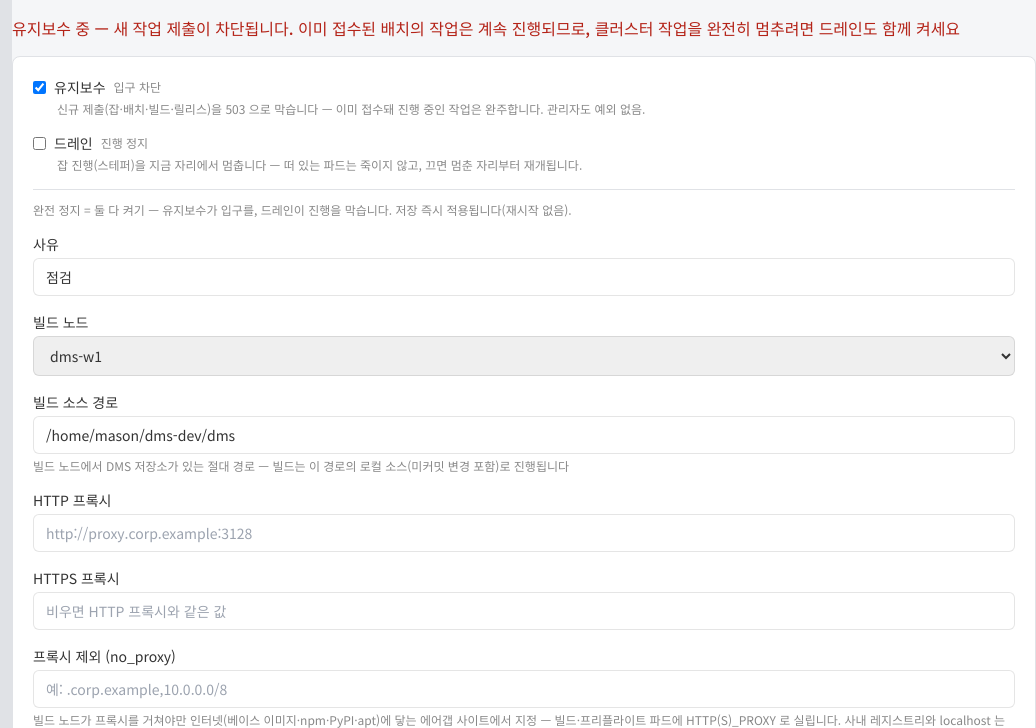
프록시 주소가 거절되면(invalid_proxy_url) 한국어 사유를 보여준다
Expected: the checkbox labelled "유지보수" is shown, left=33, top=80, right=46, bottom=94
Type "user:pw@proxy" into the field labelled "HTTPS 프록시" at x=524, y=611, box left=33, top=592, right=1015, bottom=630
(page scrolled)
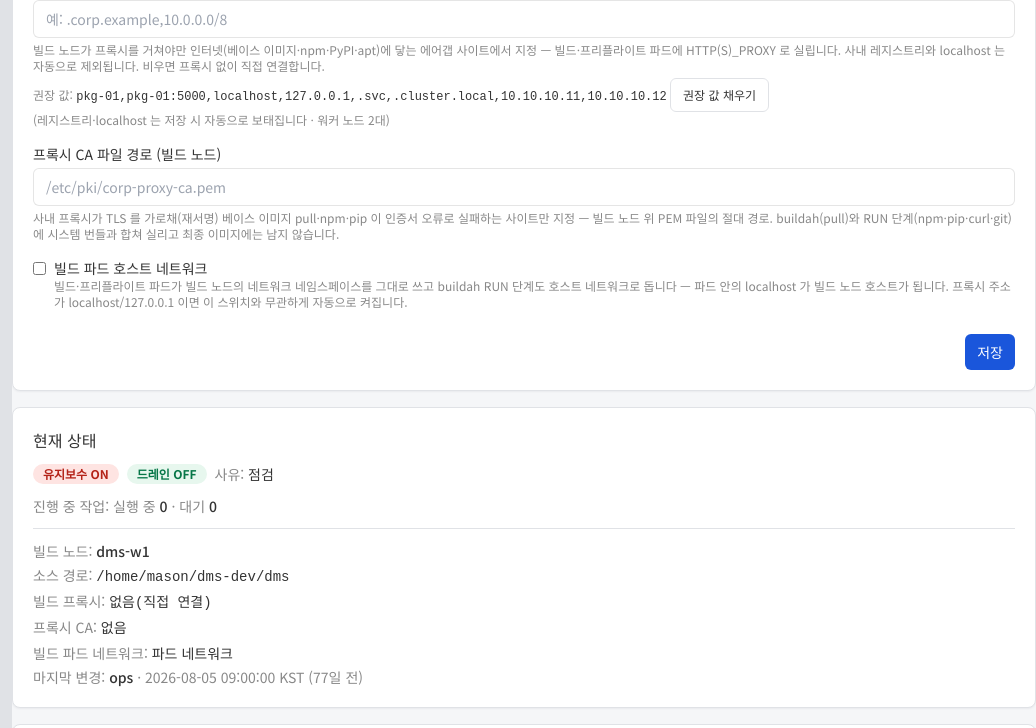
Click the button "저장" at x=990, y=352, box left=965, top=334, right=1015, bottom=370
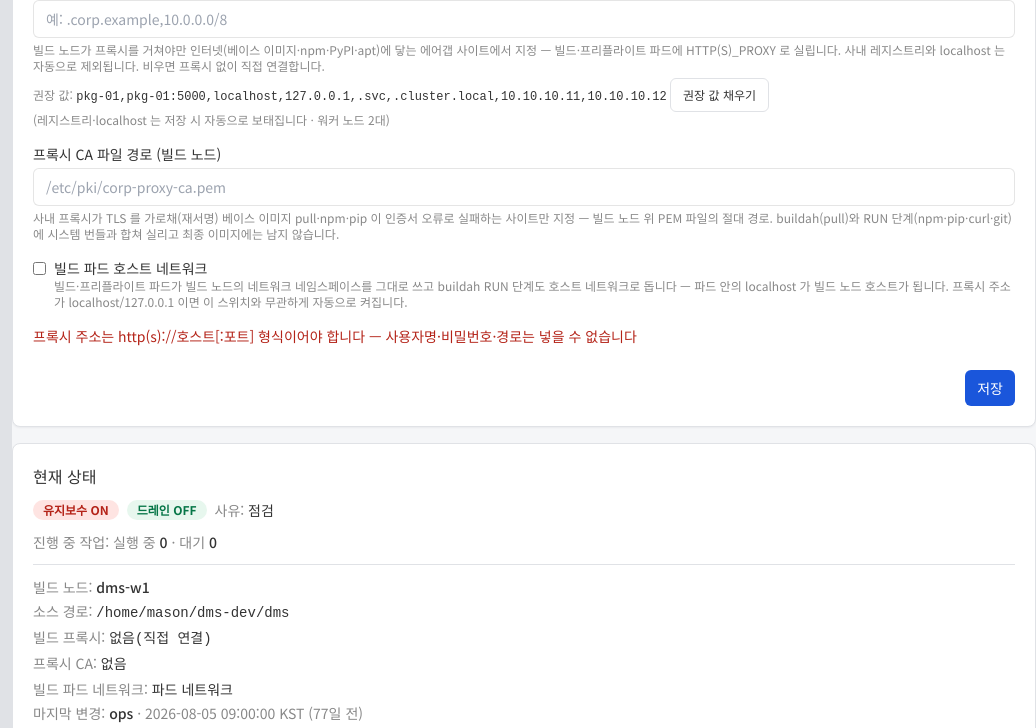
Now the text "프록시 주소는 http(s)://호스트" is shown, box left=33, top=326, right=637, bottom=346
